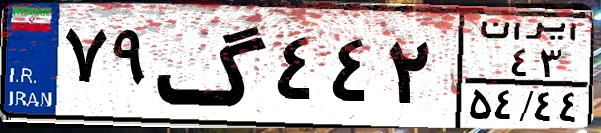2: (385, 28, 445, 110)
3: (537, 27, 568, 80)
4: (270, 28, 330, 110), (330, 28, 385, 110), (560, 70, 590, 125), (508, 27, 537, 80), (495, 70, 520, 125), (535, 70, 560, 125)
5: (470, 70, 495, 125)
7: (57, 26, 110, 100)
9: (110, 28, 156, 98)
گ: (156, 12, 270, 120)
